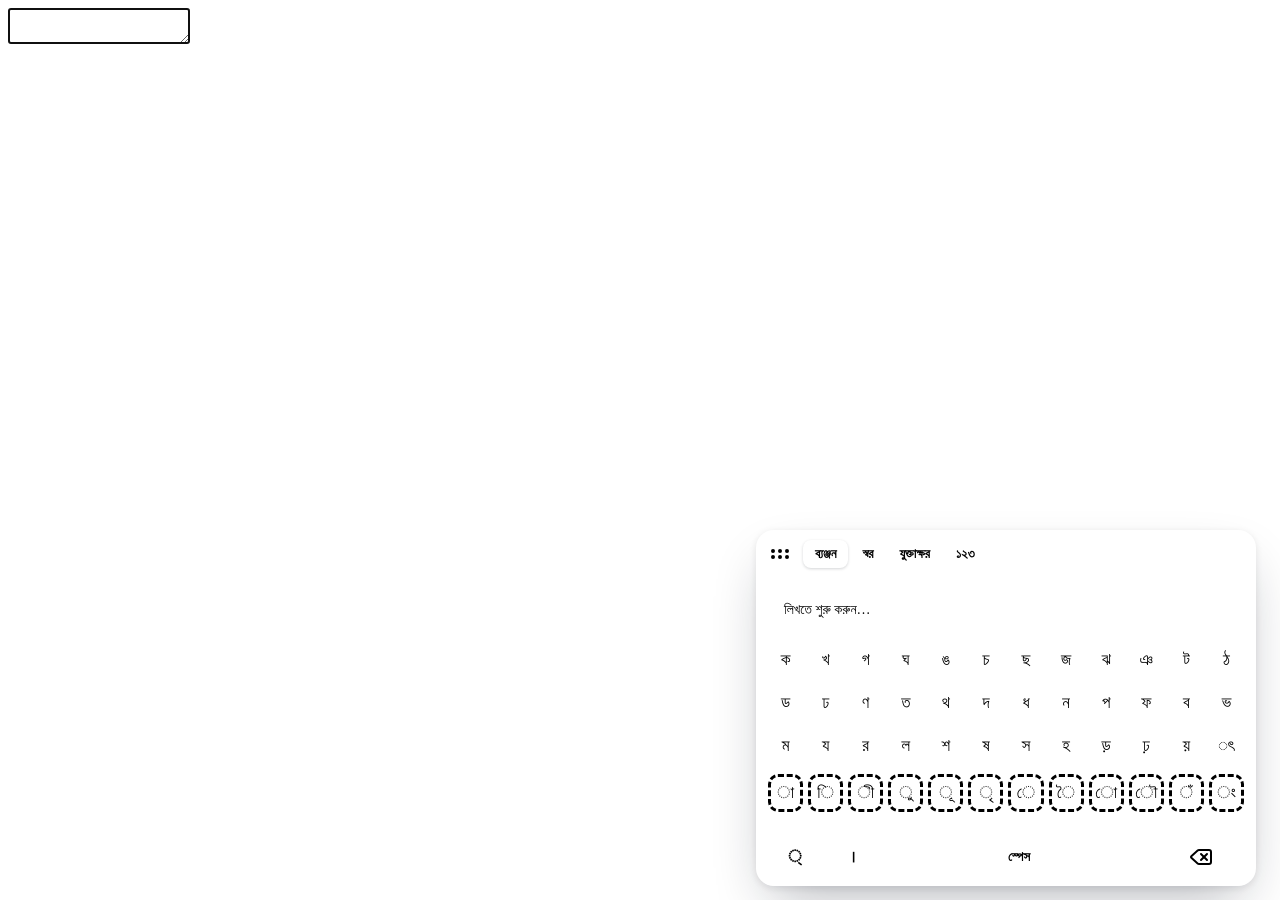
Test: BanglaKeyboard › keeps the vowels in a pane of their own, each over its sign
Click the tab "স্বর".
click(868, 554)  # box x1=850 y1=540 x2=886 y2=568
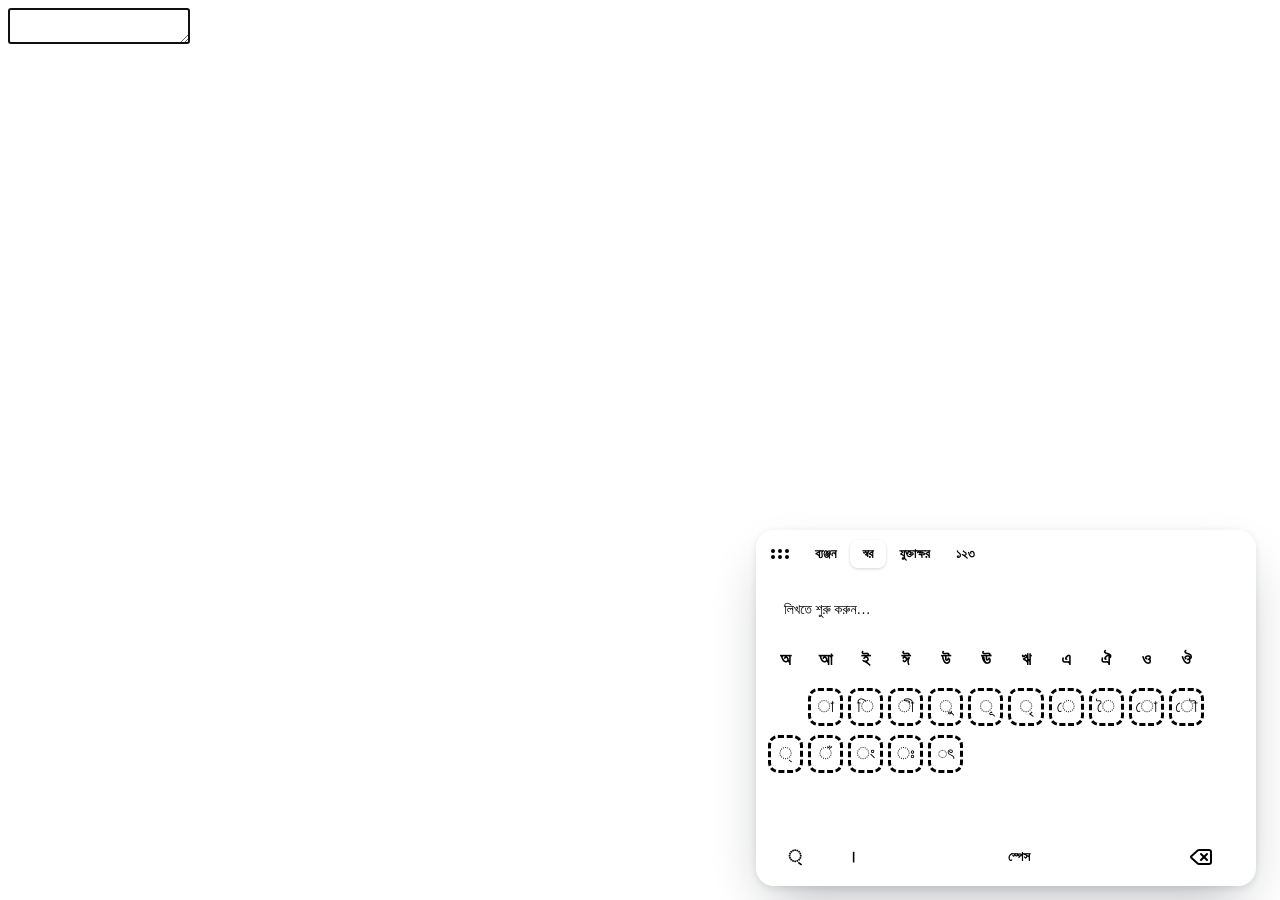
Click the button named "Insert এ".
click(1066, 660)  # box x1=1049 y1=640 x2=1084 y2=678
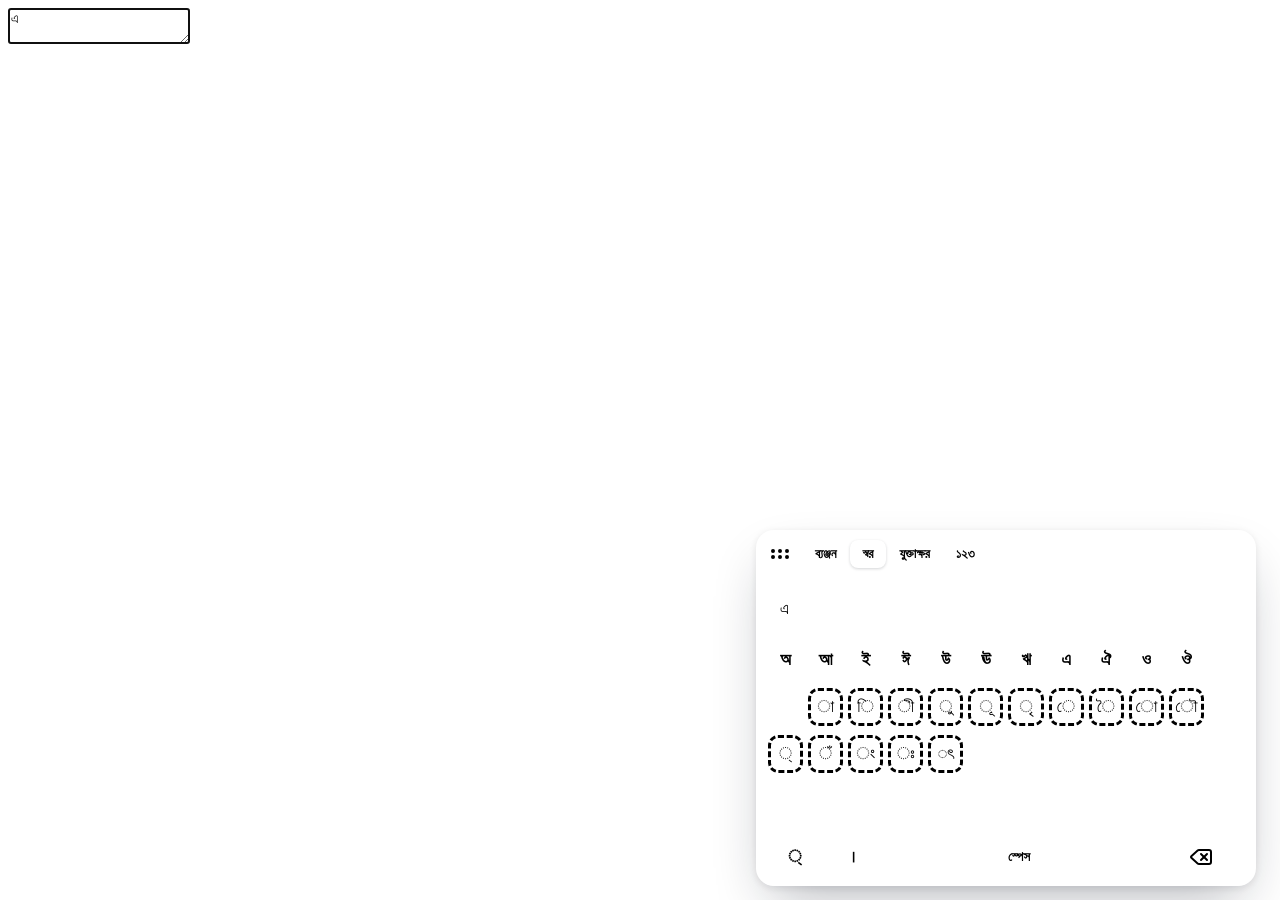
Click the button "◌ি".
click(866, 706)  # box x1=848 y1=688 x2=883 y2=726
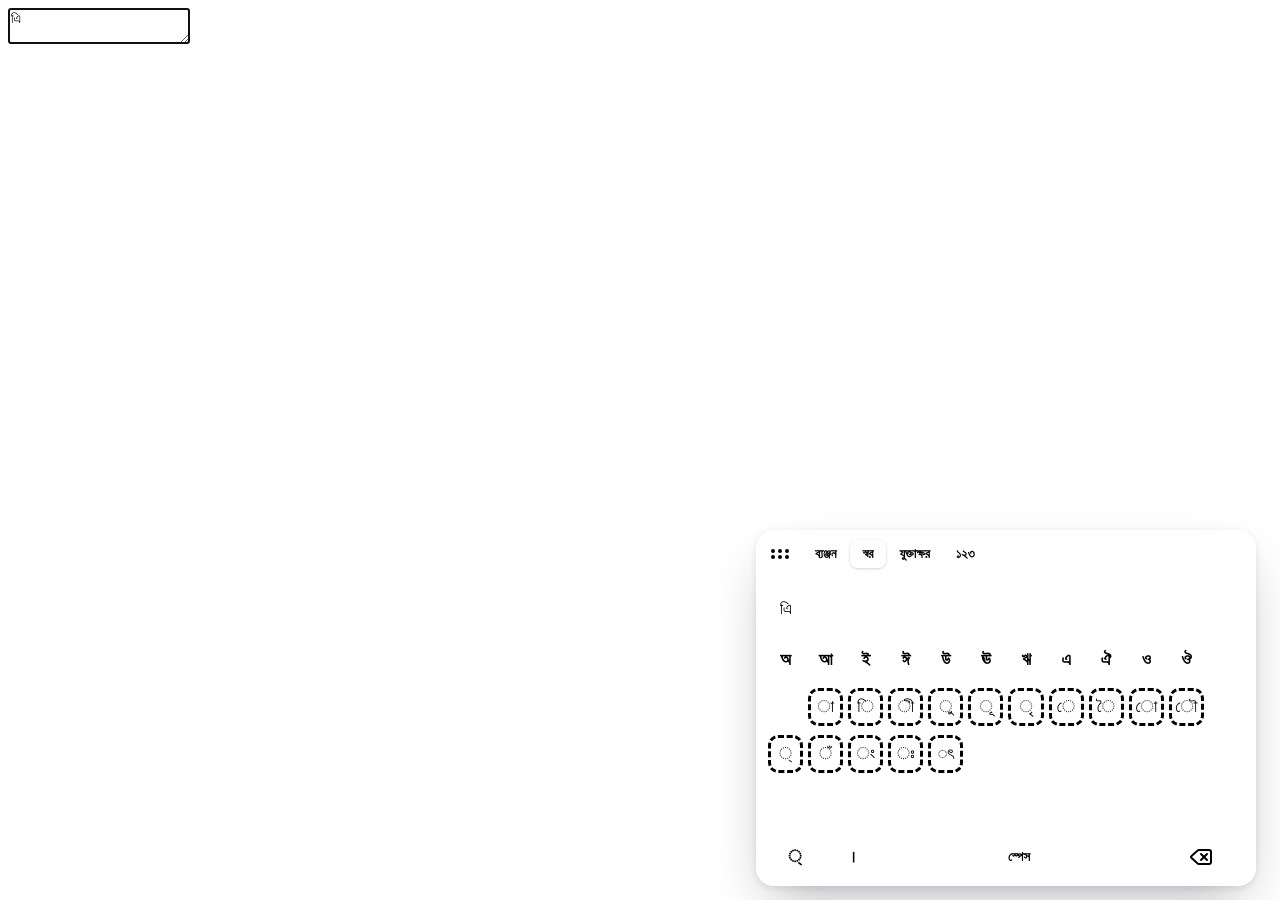
Now the text box named "advice" holds "এি", box x1=8 y1=8 x2=190 y2=44
